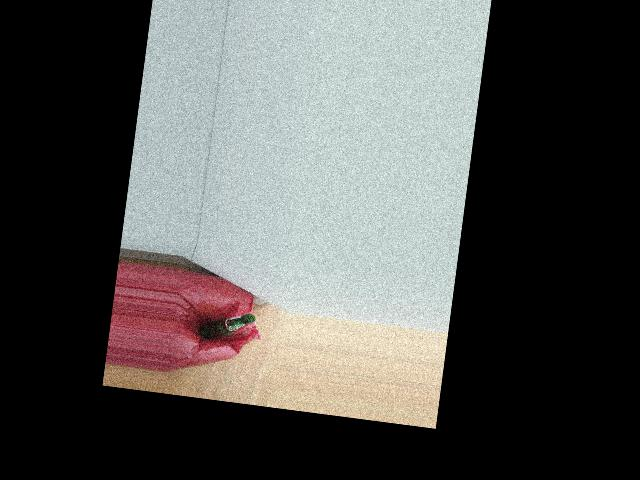beer: (199, 308, 255, 345)
